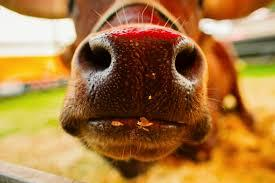cow: (61, 0, 253, 179)
